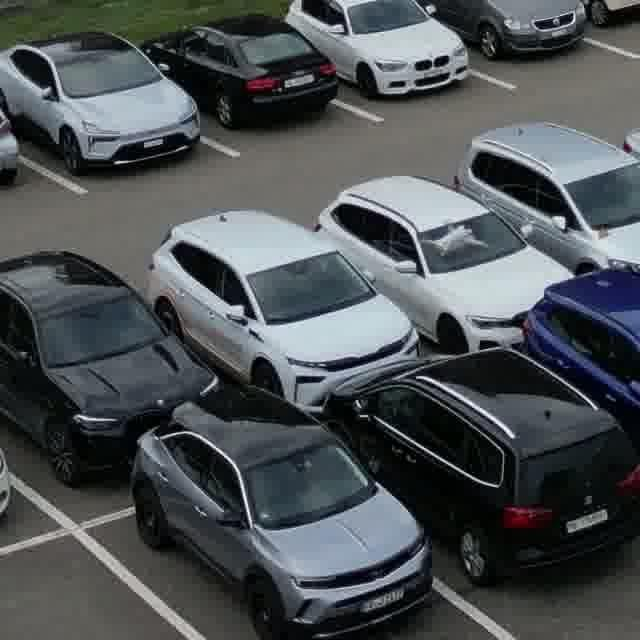Drohne: (427, 224, 488, 256)
